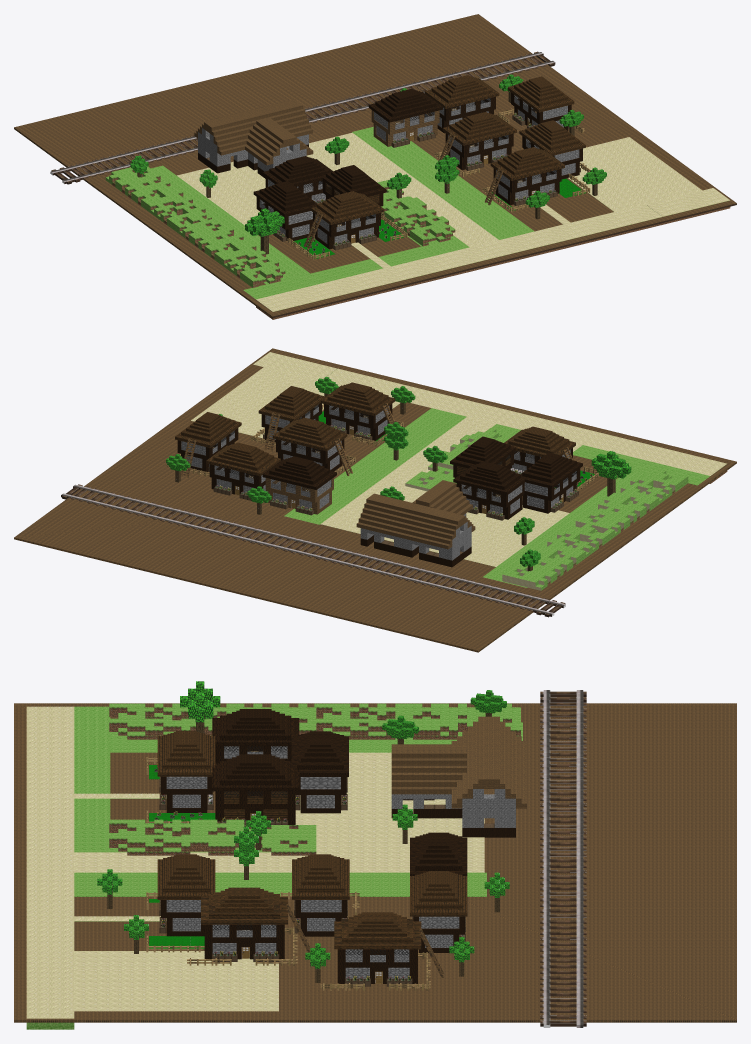
File: mine.fbx
3 views of the same model, one above another, from view 1: azimuth 30°, elevation 25°; view 2: azimuth 150°, elevation 25°; view 3: azimuth 270°, elevation 25° (orthographic). The views are drawn at different scales.
Visible parts, largest first — view 1: pPlane1, polySurface269, polySurface270, pasted__polySurface4579, pasted__polySurface4564, pasted__polySurface4581, pasted__polySurface4574, pasted__pasted__polySurface80, pasted__polySurface4582, pasted__polySurface4573, pasted__polySurface4578, pasted__pasted__polySurface79 (+5 smaller); view 2: pPlane1, polySurface269, polySurface270, pasted__pasted__polySurface80, pasted__polySurface4564, pasted__polySurface4574, pasted__polySurface4577, pasted__polySurface4581, pasted__polySurface4578, pasted__polySurface4573, pasted__pasted__polySurface81, pasted__polySurface4582 (+5 smaller); view 3: pPlane1, polySurface269, pasted__polySurface4582, polySurface270, pasted__polySurface4571, pasted__polySurface4576, pasted__pasted__polySurface81, pasted__pasted__polySurface79, pasted__polySurface4579, pasted__polySurface4581, pasted__polySurface4577, pasted__polySurface4564 (+20 smaller).
Boxes of the visible parts, left/top/right/bottom form: pPlane1: left=14, top=14, right=736, bottom=318; polySurface269: left=105, top=126, right=730, bottom=319; polySurface270: left=130, top=74, right=606, bottom=254; pasted__polySurface4579: left=287, top=191, right=384, bottom=260; pasted__polySurface4564: left=482, top=147, right=564, bottom=211; pasted__polySurface4581: left=434, top=112, right=516, bottom=176; pasted__polySurface4574: left=368, top=88, right=442, bottom=147; pasted__pasted__polySurface80: left=194, top=110, right=258, bottom=173; pasted__polySurface4582: left=498, top=76, right=584, bottom=133; pasted__polySurface4573: left=425, top=75, right=499, bottom=133; pasted__polySurface4578: left=253, top=181, right=317, bottom=241; pasted__pasted__polySurface79: left=245, top=117, right=313, bottom=178; pPlane1: left=14, top=348, right=736, bottom=652; polySurface269: left=191, top=352, right=727, bottom=590; polySurface270: left=166, top=376, right=631, bottom=571; pasted__pasted__polySurface80: left=401, top=504, right=475, bottom=567; pasted__polySurface4564: left=321, top=382, right=403, bottom=446; pasted__polySurface4574: left=262, top=456, right=336, bottom=515; pasted__polySurface4577: left=453, top=461, right=527, bottom=520; pasted__polySurface4581: left=273, top=417, right=355, bottom=475; pasted__polySurface4578: left=521, top=452, right=582, bottom=513; pasted__polySurface4573: left=206, top=442, right=280, bottom=500; pasted__pasted__polySurface81: left=356, top=493, right=419, bottom=555; pasted__polySurface4582: left=166, top=412, right=241, bottom=477; pPlane1: left=14, top=703, right=736, bottom=1022; polySurface269: left=26, top=703, right=522, bottom=1029; pasted__polySurface4582: left=320, top=912, right=443, bottom=990; polySurface270: left=97, top=681, right=509, bottom=982; pasted__polySurface4571: left=187, top=887, right=310, bottom=965; pasted__polySurface4576: left=212, top=754, right=299, bottom=824; pasted__pasted__polySurface81: left=451, top=747, right=526, bottom=837; pasted__pasted__polySurface79: left=391, top=744, right=466, bottom=818; pasted__polySurface4579: left=146, top=731, right=215, bottom=812; pasted__polySurface4581: left=280, top=854, right=359, bottom=936; pasted__polySurface4577: left=291, top=731, right=348, bottom=813; pasted__polySurface4564: left=146, top=854, right=215, bottom=936.
Size of the model in its own units: 109 by 10.88 by 99.46.
